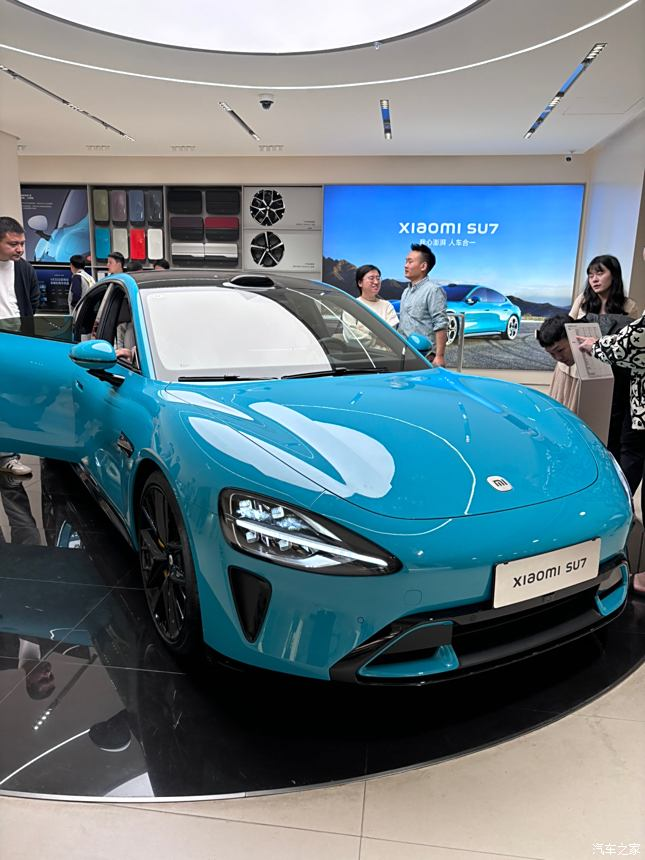su7: (38, 274, 628, 699)
